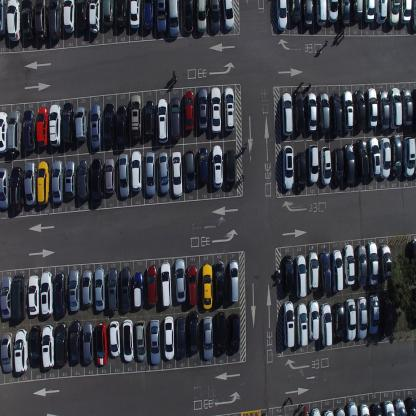car: (11, 272, 27, 318), (6, 0, 22, 44), (39, 270, 54, 316), (9, 166, 24, 211), (68, 319, 82, 367), (53, 271, 67, 318), (41, 323, 55, 370), (14, 328, 28, 375), (90, 157, 103, 207), (36, 160, 50, 205), (282, 300, 295, 348), (48, 103, 62, 147), (22, 109, 36, 152), (281, 144, 294, 190), (0, 274, 13, 320), (367, 136, 381, 178), (34, 0, 48, 42), (8, 110, 21, 155), (51, 159, 64, 204), (210, 86, 222, 134), (170, 150, 182, 198), (160, 260, 172, 308), (120, 265, 132, 313), (0, 332, 14, 373), (329, 92, 342, 136), (319, 250, 332, 294), (320, 302, 333, 346), (95, 322, 108, 366), (29, 324, 42, 368), (144, 150, 156, 197), (130, 93, 142, 140), (149, 318, 161, 365), (134, 319, 147, 362), (169, 96, 181, 142), (118, 152, 130, 198), (103, 102, 115, 148), (90, 103, 102, 149), (62, 100, 74, 146), (24, 160, 36, 206), (174, 257, 186, 303), (94, 266, 106, 312), (365, 87, 378, 129), (21, 0, 34, 42), (27, 274, 40, 316), (77, 157, 89, 202), (186, 263, 198, 308), (162, 315, 174, 360), (122, 318, 134, 363), (82, 320, 94, 365), (355, 139, 368, 180), (48, 0, 61, 41), (293, 90, 305, 134), (390, 86, 402, 130), (390, 134, 402, 178), (366, 241, 378, 285), (296, 302, 308, 346), (184, 148, 196, 192), (158, 150, 170, 194), (107, 268, 119, 312), (68, 268, 80, 312), (56, 322, 68, 366), (74, 105, 88, 142), (331, 249, 343, 292), (295, 254, 307, 297), (146, 264, 158, 307), (224, 86, 235, 132), (228, 258, 239, 304), (202, 314, 213, 360), (354, 89, 366, 131), (307, 142, 319, 184), (355, 244, 367, 286), (307, 250, 319, 292), (344, 298, 356, 340), (282, 254, 294, 296), (36, 106, 48, 148), (228, 312, 240, 354), (212, 145, 223, 190), (116, 104, 127, 149), (403, 136, 415, 177), (281, 92, 292, 136), (318, 91, 329, 135), (356, 295, 367, 339), (197, 87, 208, 131), (216, 311, 227, 355), (188, 309, 199, 353), (320, 146, 332, 186), (332, 146, 344, 186), (64, 159, 76, 199), (202, 262, 212, 310), (62, 0, 76, 34), (380, 136, 391, 179), (344, 142, 355, 185), (158, 98, 168, 145), (81, 269, 93, 308), (296, 150, 307, 192), (342, 90, 353, 132), (344, 244, 355, 286), (131, 150, 142, 192), (168, 0, 180, 38), (225, 148, 236, 189), (306, 91, 317, 132), (378, 89, 389, 130), (382, 296, 393, 337), (333, 302, 344, 343), (368, 294, 379, 335), (144, 99, 155, 140), (214, 260, 224, 305), (380, 243, 392, 280), (104, 157, 116, 193), (184, 89, 194, 132), (176, 315, 186, 358), (275, 0, 288, 33), (155, 0, 167, 35), (309, 299, 319, 341), (0, 168, 10, 210), (75, 0, 88, 32), (142, 0, 154, 34), (109, 320, 120, 357), (198, 146, 208, 186), (133, 270, 143, 310), (196, 0, 208, 33), (114, 0, 127, 30), (402, 89, 412, 127), (301, 0, 314, 29), (209, 0, 220, 34), (89, 0, 100, 33), (222, 0, 234, 30), (408, 238, 416, 282), (0, 110, 8, 154), (374, 0, 388, 25), (183, 0, 193, 35), (102, 0, 114, 28), (129, 0, 140, 30), (388, 0, 400, 27), (314, 0, 326, 27), (290, 0, 302, 26), (326, 0, 338, 25), (339, 0, 350, 27), (350, 0, 363, 22), (400, 0, 412, 23), (363, 0, 375, 23), (393, 397, 407, 415), (410, 288, 416, 328), (0, 0, 6, 37), (382, 400, 395, 415), (346, 400, 358, 416), (406, 395, 415, 416), (358, 402, 370, 415), (371, 402, 382, 416), (411, 0, 415, 33), (333, 406, 346, 416), (413, 86, 416, 128), (310, 408, 321, 416), (322, 409, 334, 415), (300, 410, 309, 416)
